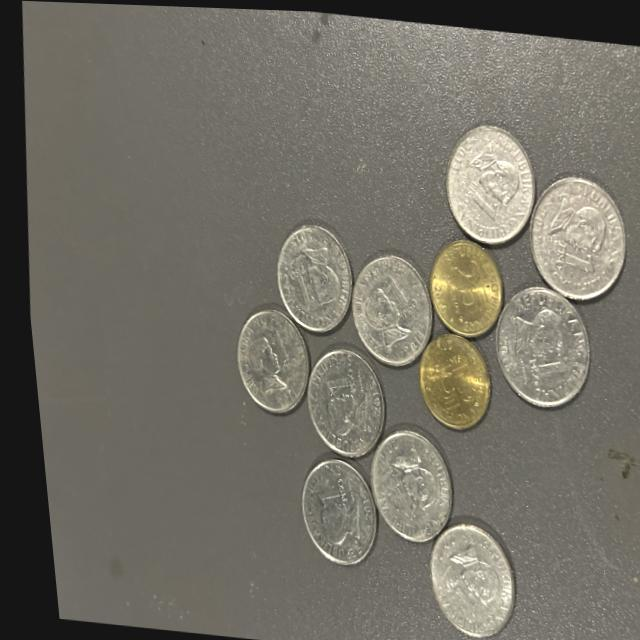1_Old_Front: (518, 166, 624, 293), (334, 251, 438, 366), (489, 286, 596, 394), (354, 420, 449, 537), (440, 135, 530, 246), (284, 452, 371, 558), (227, 318, 312, 406), (265, 227, 340, 324), (301, 345, 377, 438)
25Cent_Old_Front: (427, 242, 504, 324), (417, 338, 482, 417)
